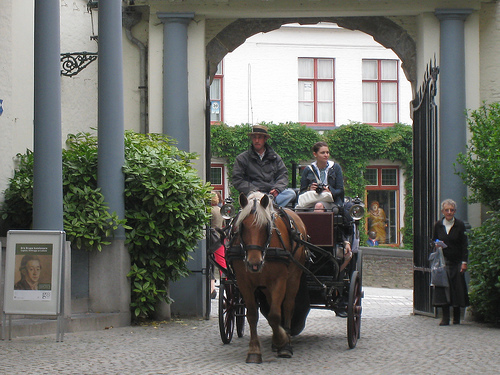horse: (228, 190, 311, 365)
